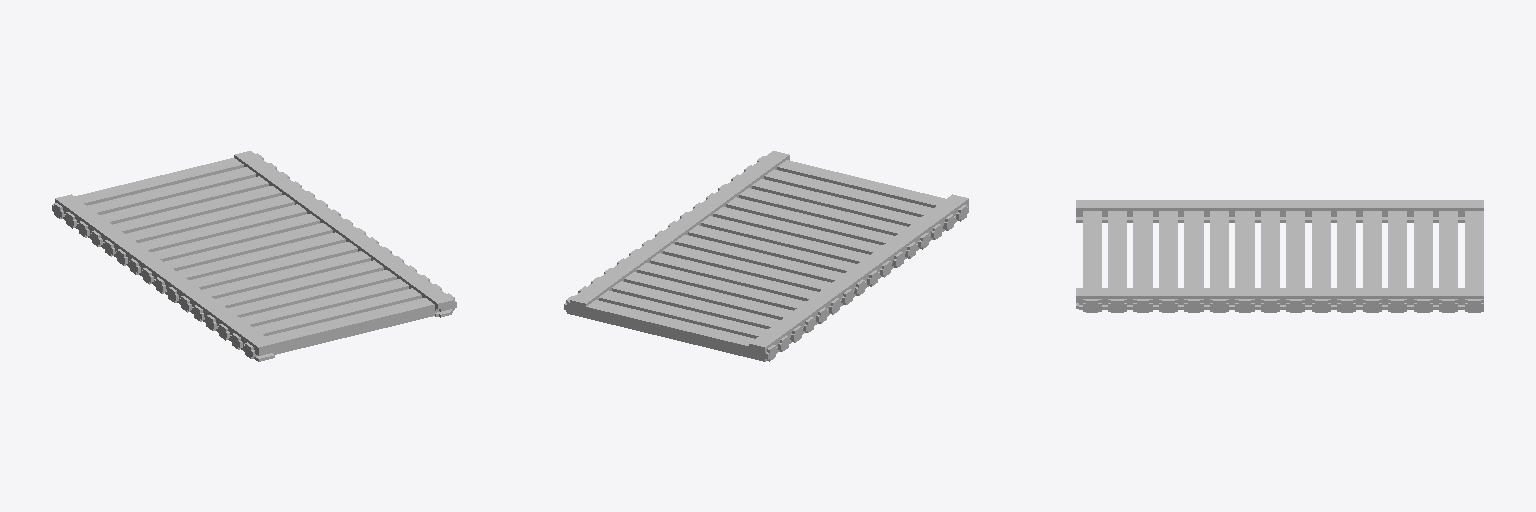
The model's file is bridge1.obj.
The picture shows the model from 3 angles: view 1: azimuth 30°, elevation 25°; view 2: azimuth 150°, elevation 25°; view 3: azimuth 270°, elevation 25°; orthographic projection.
Visible parts, largest first — view 1: object 1; view 2: object 1; view 3: object 1.
Boxes of the visible parts, x1=… form: object 1: x1=52, y1=151, x2=456, y2=361; object 1: x1=564, y1=151, x2=968, y2=361; object 1: x1=1076, y1=200, x2=1483, y2=312.
Size of the model in its own units: 7.4 by 0.5 by 12.8.